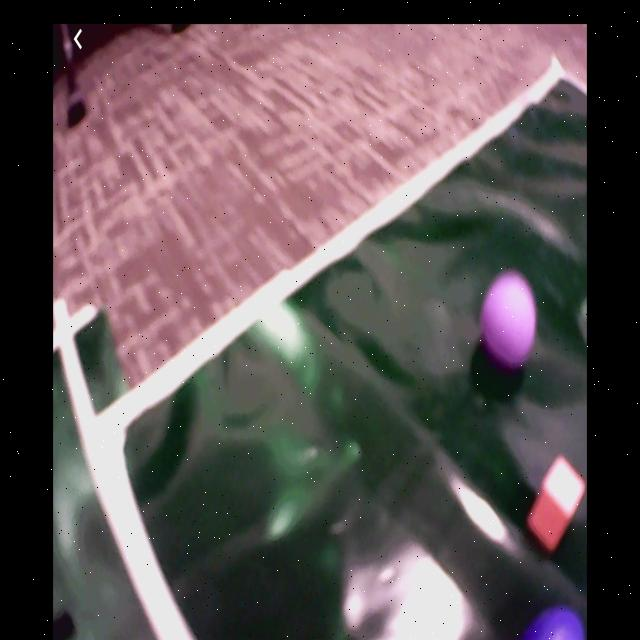ball: (483, 274, 537, 364), (524, 609, 586, 640)
